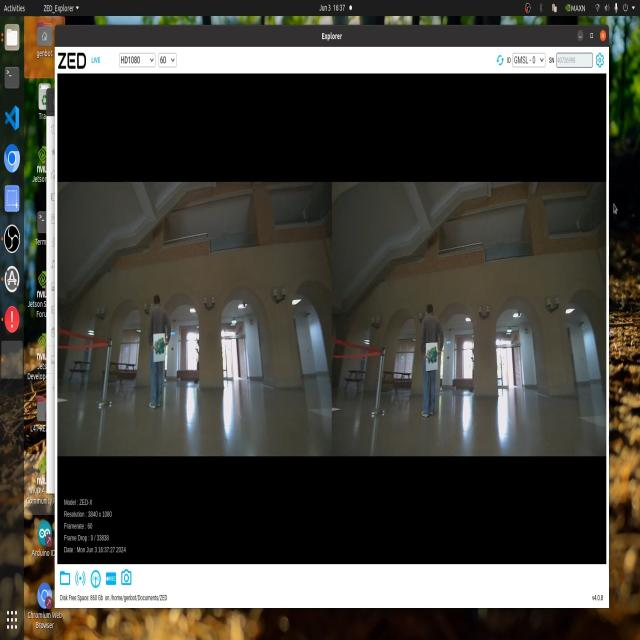green: (152, 336, 165, 368), (427, 345, 435, 378)
